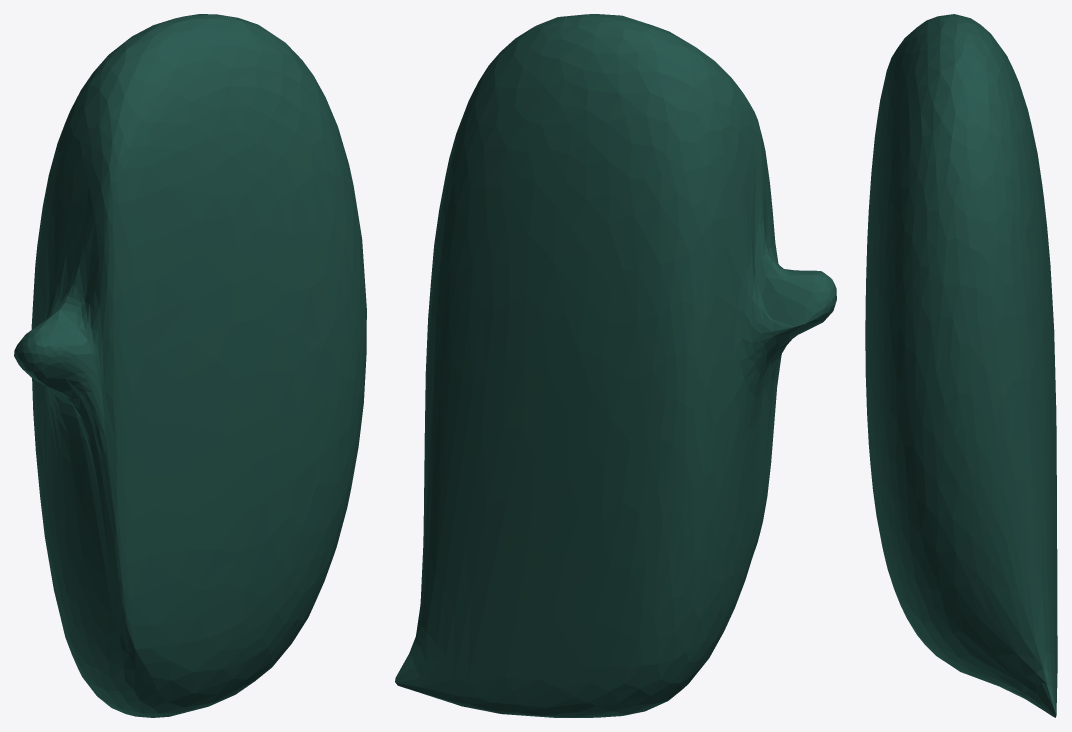
The picture shows the model from 3 angles, left to right: view 1: azimuth 30°, elevation 25°; view 2: azimuth 150°, elevation 25°; view 3: azimuth 270°, elevation 25°; orthographic projection. The views are drawn at different scales.
Visible parts, largest first — view 1: 788_Cube.3175; view 2: 788_Cube.3175; view 3: 788_Cube.3175.
Boxes of the visible parts, x1,y1,x2,y2 form: 788_Cube.3175: (14, 14, 366, 717); 788_Cube.3175: (395, 14, 836, 717); 788_Cube.3175: (865, 14, 1057, 717).
Bounding box in the file's own units: 6.23 × 11.14 × 3.1.
